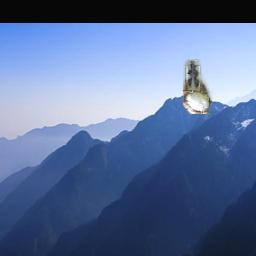Cuckoo: (183, 60, 212, 115)
